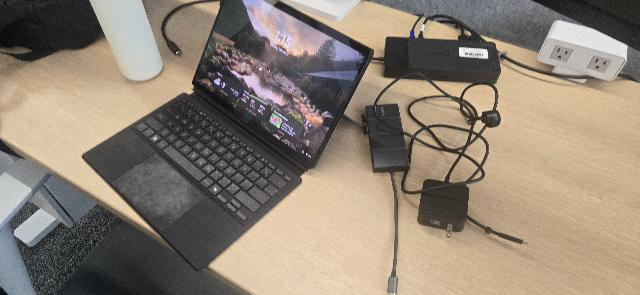Keyboard: (135, 99, 292, 222)
